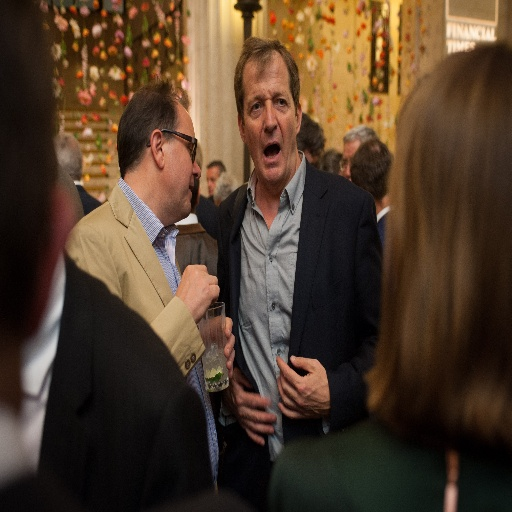hand: (274, 353, 331, 422), (232, 366, 276, 448), (174, 260, 218, 326), (198, 313, 236, 378)
